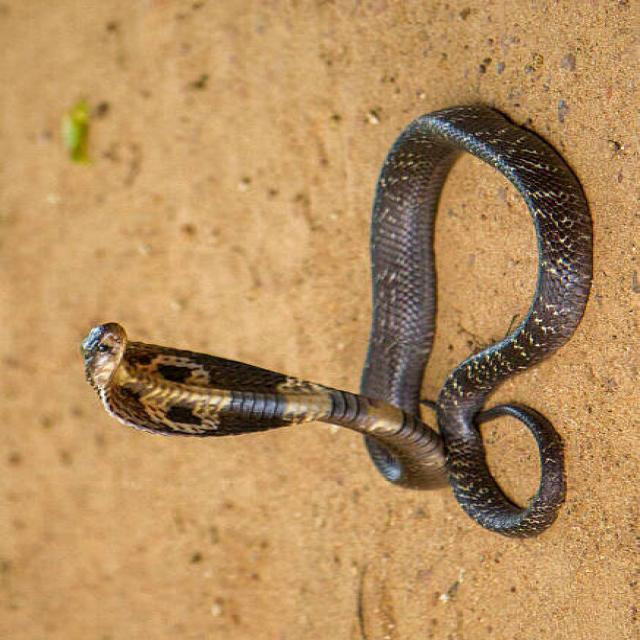Venomous: (70, 314, 321, 458)
